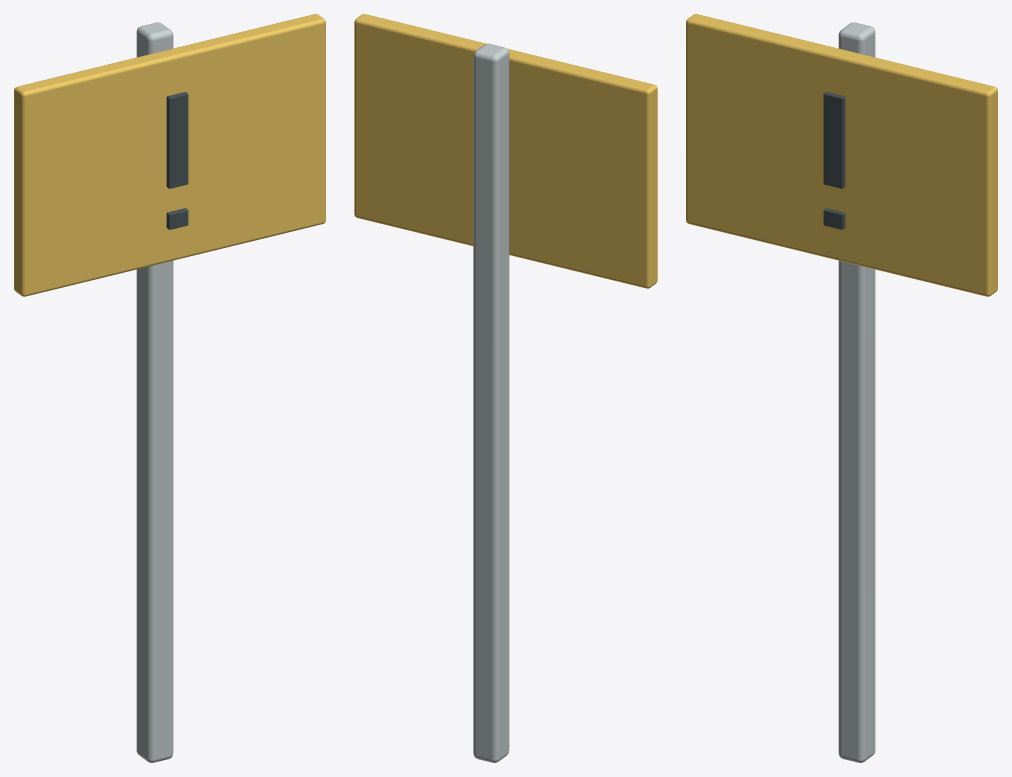
File: hydroelectric-dam-infiltration-warning-sign-cd2465b2__29374.glb
3 renders of one model, left to right at view 1: azimuth 30°, elevation 25°; view 2: azimuth 150°, elevation 25°; view 3: azimuth 330°, elevation 25°, orthographic. The views are drawn at different scales.
Visible parts, largest first — view 1: warning-sign; view 2: warning-sign; view 3: warning-sign.
Part boxes in pixels (x1,y1,x2,y2): warning-sign: (14, 14, 325, 762); warning-sign: (354, 14, 657, 762); warning-sign: (686, 14, 997, 762).
Size of the model in its own units: 0.7 by 1.6 by 0.126.
